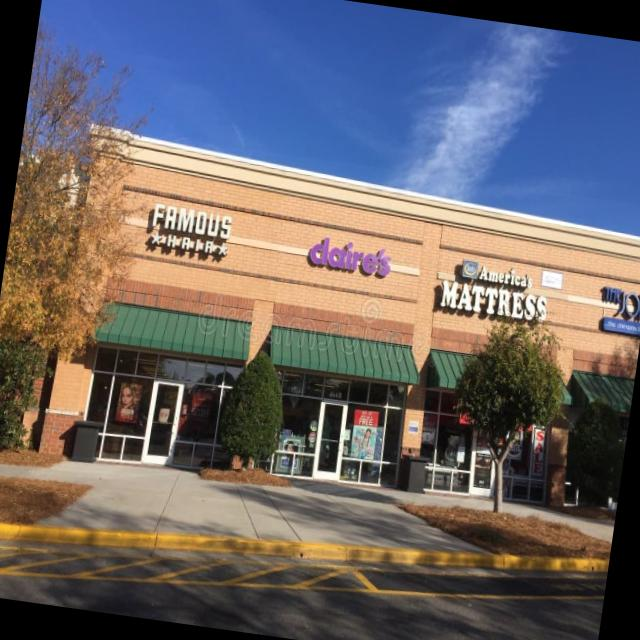House: (0, 118, 640, 536)
